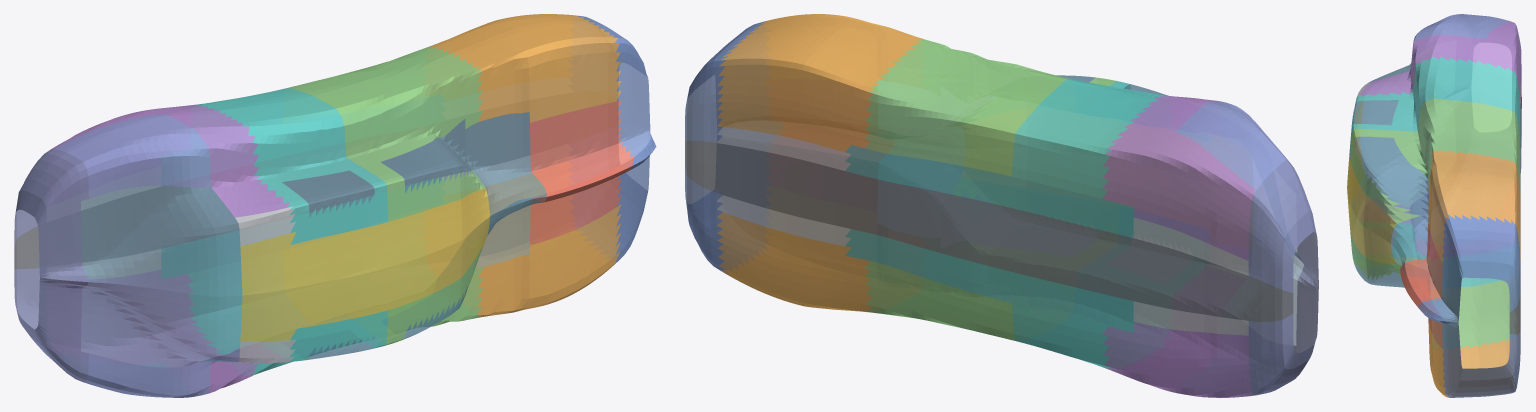
File: modern_car_v2_reference_surface_partition.glb
The picture shows the model from 3 angles, left to right: view 1: azimuth 30°, elevation 25°; view 2: azimuth 150°, elevation 25°; view 3: azimuth 270°, elevation 25°; orthographic projection. The views are drawn at different scales.
Parts seen in each view (by area): view 1: aperture_rear_glass, panel_roof, panel_underbody, panel_front_door_right, panel_front_fender_right, panel_rear_hatch, panel_rear_bumper, panel_rear_door_right, panel_front_fender_left, panel_rear_quarter_left, panel_hood, aperture_windshield (+10 smaller); view 2: panel_underbody, panel_front_fender_right, panel_front_door_right, panel_rear_quarter_right, panel_rear_bumper, panel_rear_door_right, panel_front_fender_left, panel_fixed_body, panel_rocker_right, panel_rocker_left, panel_rear_quarter_left, panel_front_door_left (+5 smaller); view 3: panel_front_bumper, panel_front_door_right, panel_front_fender_right, panel_rear_door_right, panel_rear_quarter_right, panel_front_door_left, aperture_rear_glass, aperture_front_side_glass_right, panel_roof, panel_hood, panel_rear_hatch, panel_front_fender_left (+6 smaller).
Boxes of the visible parts, x1=… form: aperture_rear_glass: x1=81, y1=185, x2=242, y2=367; panel_roof: x1=240, y1=189, x2=489, y2=342; panel_underbody: x1=14, y1=111, x2=530, y2=268; panel_front_door_right: x1=286, y1=45, x2=485, y2=221; panel_front_fender_right: x1=428, y1=14, x2=621, y2=122; panel_rear_hatch: x1=54, y1=114, x2=211, y2=397; panel_rear_bumper: x1=14, y1=149, x2=88, y2=382; panel_rear_door_right: x1=196, y1=88, x2=388, y2=244; panel_front_fender_left: x1=475, y1=173, x2=621, y2=317; panel_rear_quarter_left: x1=81, y1=269, x2=259, y2=393; panel_hood: x1=530, y1=100, x2=636, y2=244; aperture_windshield: x1=465, y1=112, x2=547, y2=268; panel_underbody: x1=685, y1=140, x2=1293, y2=321; panel_front_fender_right: x1=717, y1=14, x2=924, y2=152; panel_front_door_right: x1=864, y1=39, x2=1116, y2=176; panel_rear_quarter_right: x1=1102, y1=95, x2=1256, y2=260; panel_rear_bumper: x1=1248, y1=159, x2=1318, y2=395; panel_rear_door_right: x1=1012, y1=79, x2=1174, y2=198; panel_front_fender_left: x1=717, y1=212, x2=872, y2=312; panel_fixed_body: x1=717, y1=127, x2=1248, y2=335; panel_rocker_right: x1=845, y1=145, x2=1133, y2=238; panel_rocker_left: x1=845, y1=229, x2=1133, y2=332; panel_rear_quarter_left: x1=1102, y1=322, x2=1255, y2=397; panel_front_door_left: x1=864, y1=261, x2=1015, y2=340; panel_front_bumper: x1=1417, y1=214, x2=1520, y2=397; panel_front_door_right: x1=1350, y1=98, x2=1520, y2=223; panel_front_fender_right: x1=1428, y1=149, x2=1520, y2=262; panel_rear_door_right: x1=1349, y1=56, x2=1520, y2=157; panel_rear_quarter_right: x1=1360, y1=21, x2=1521, y2=107; panel_front_door_left: x1=1350, y1=231, x2=1509, y2=348; aperture_rear_glass: x1=1360, y1=63, x2=1429, y2=207; aperture_front_side_glass_right: x1=1353, y1=136, x2=1429, y2=215; panel_roof: x1=1347, y1=102, x2=1396, y2=264; panel_hood: x1=1400, y1=222, x2=1443, y2=347; panel_rear_hatch: x1=1410, y1=14, x2=1508, y2=241; panel_front_fender_left: x1=1428, y1=321, x2=1509, y2=397.
Bounding box in the file's own units: 4.34 × 1.81 × 1.36.
